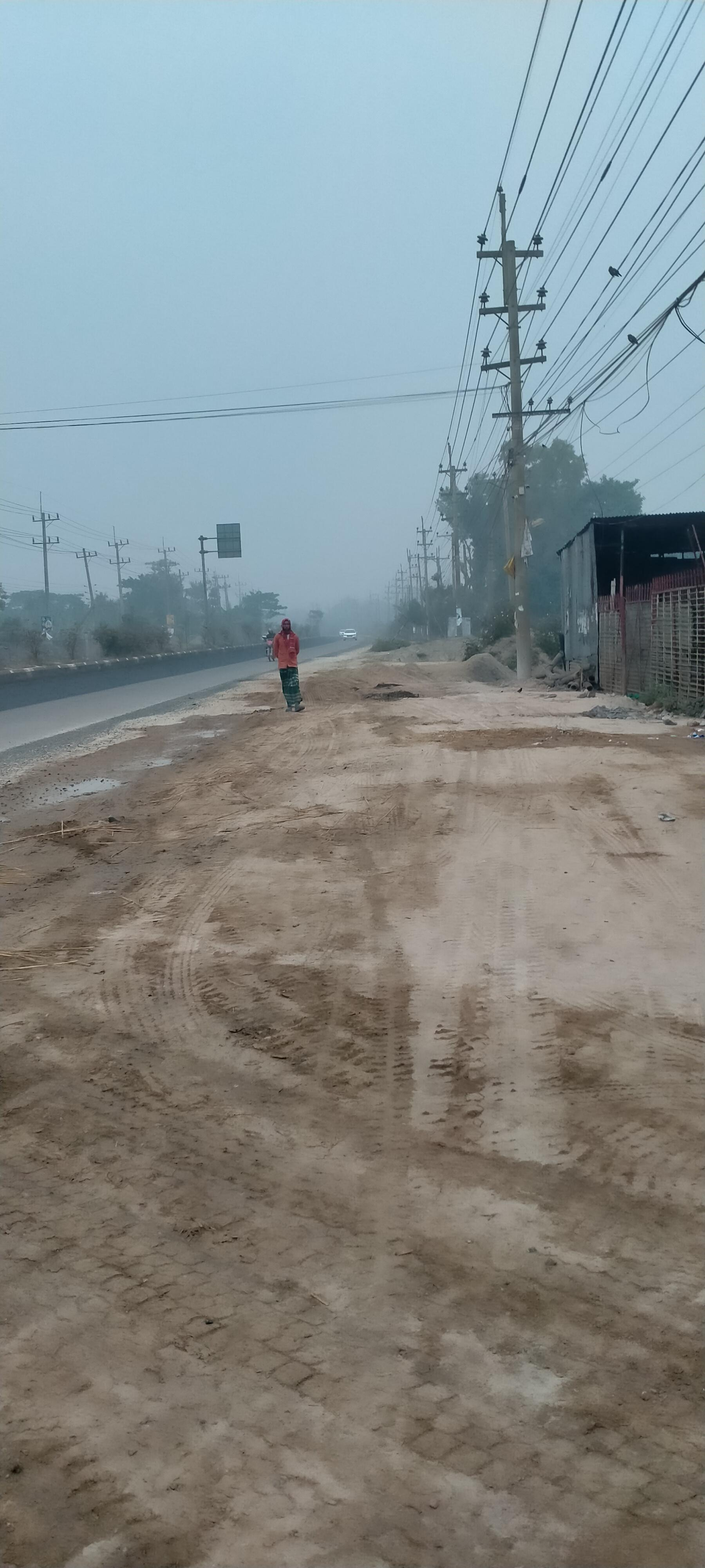Bike: (256, 617, 282, 661)
Car: (336, 617, 363, 651)
